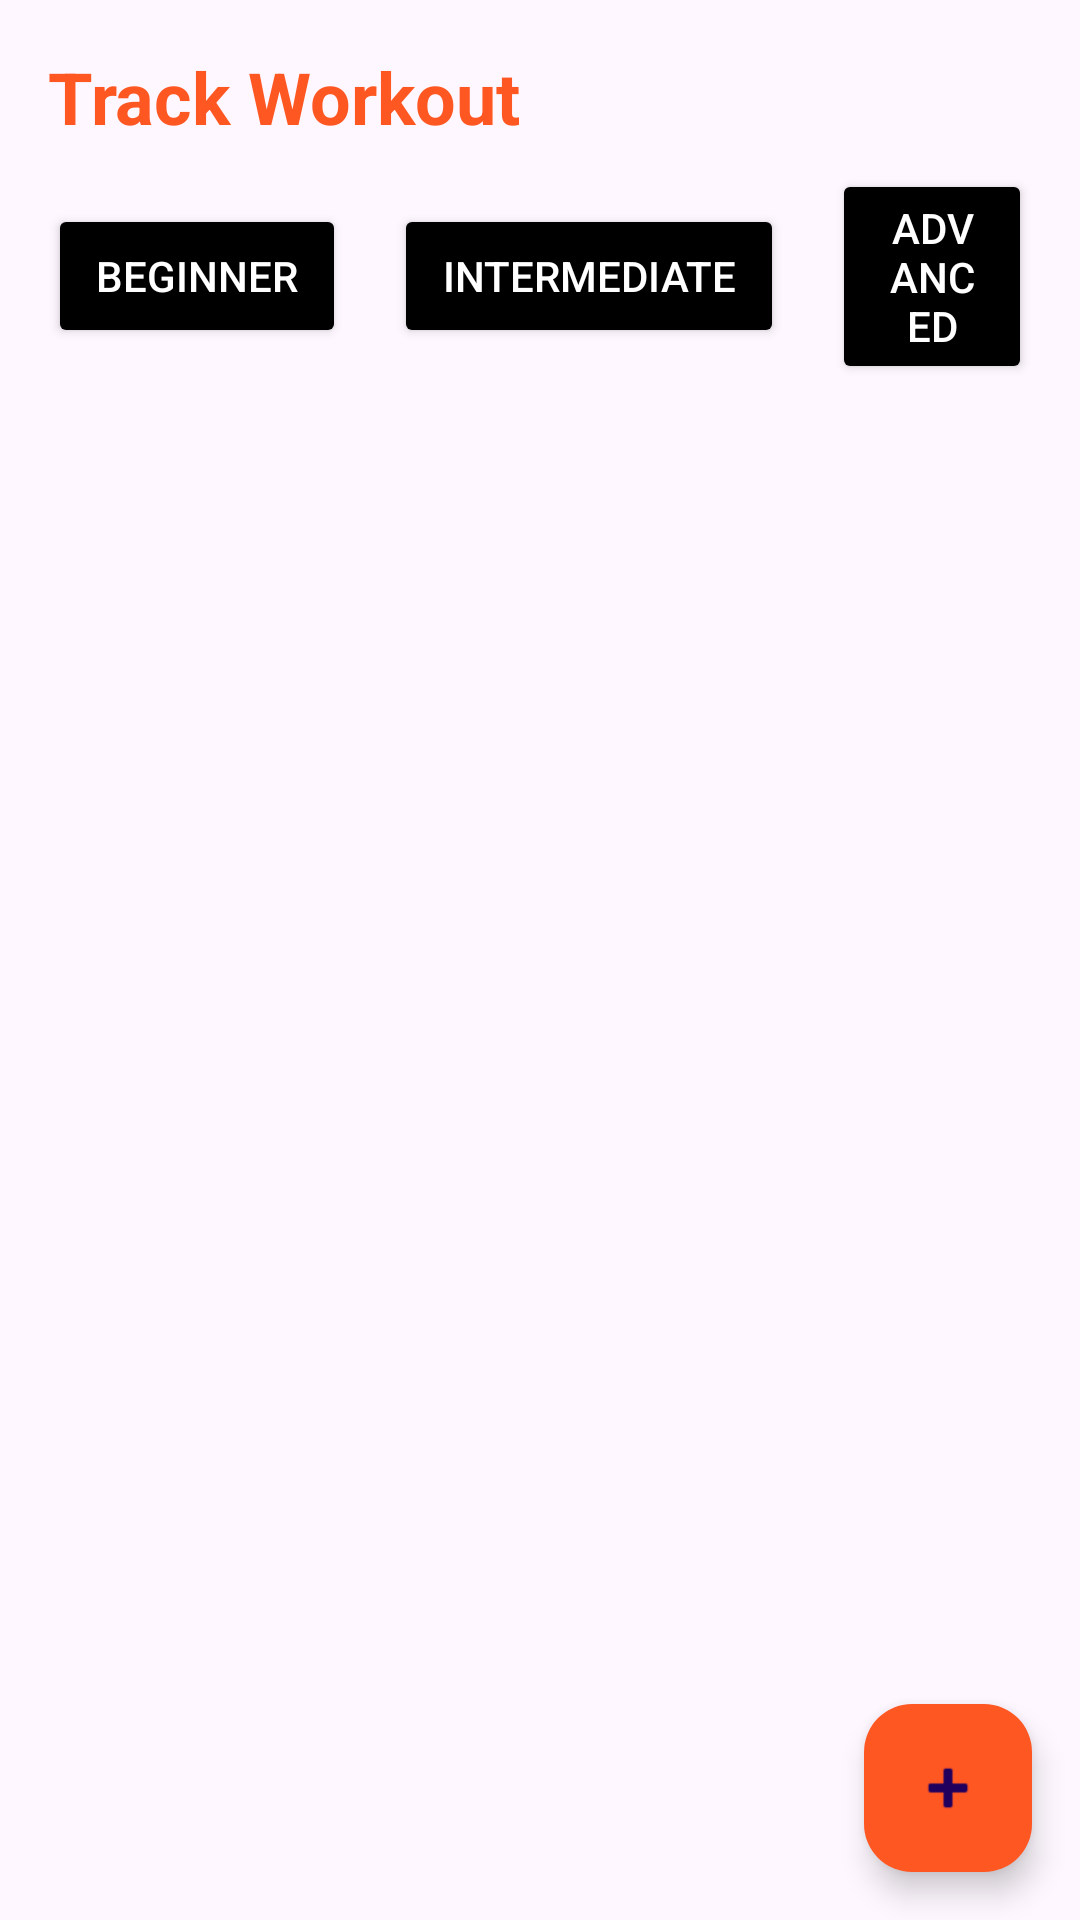

Icon click points for this 1080w x 1920h phone screenshot, format point (x, y):
Add exercise: point (948, 1788)
